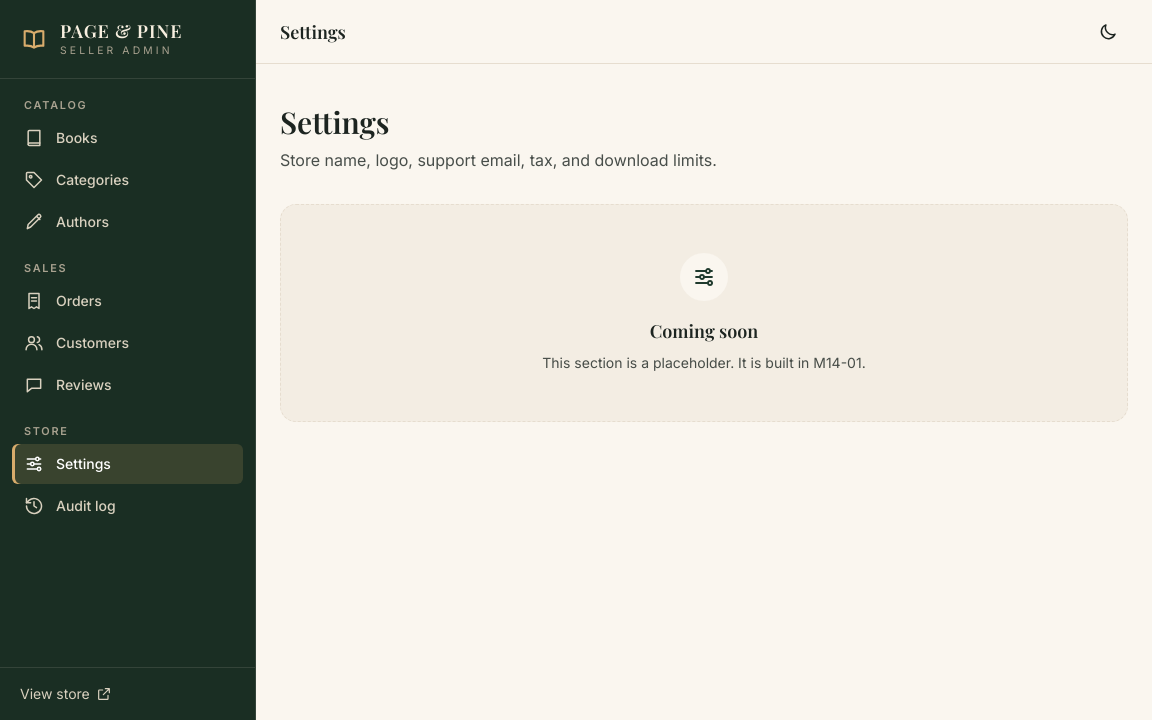
Test case: admin sidebar › clicking "Books" shows the matching page
Step 1. Click the link "Books" → [61, 138], box [24, 128, 98, 148]
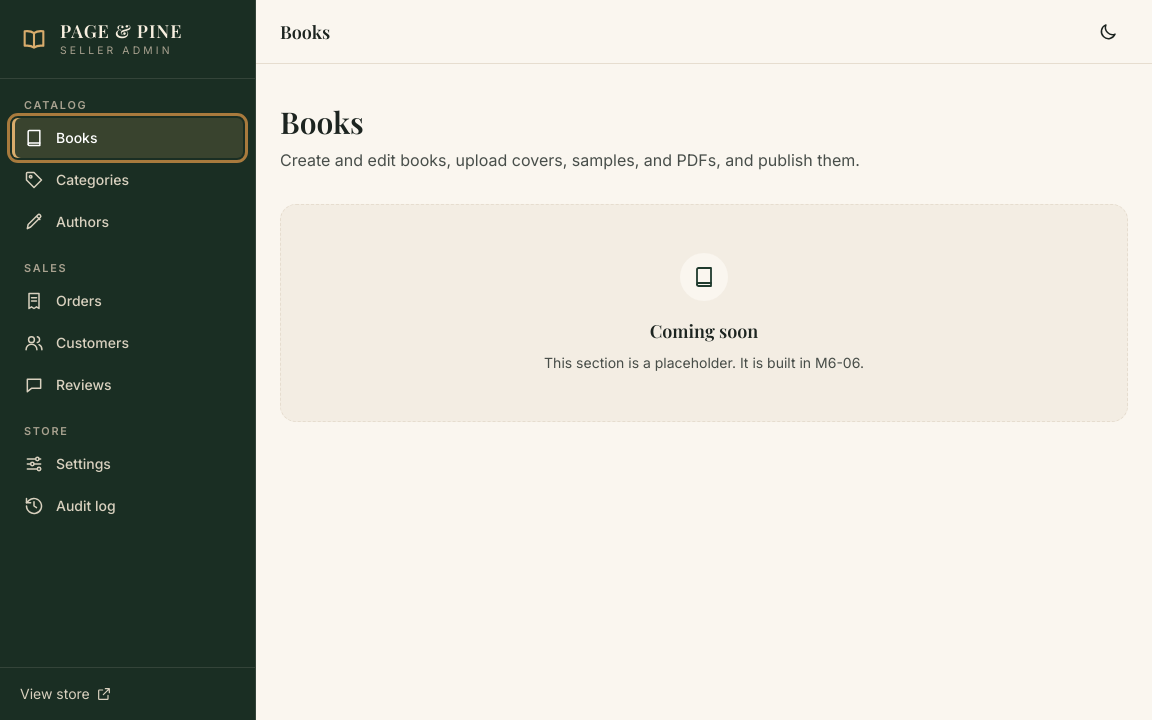
Check: the heading "Books" is shown, box [280, 102, 364, 142]
Check: the text "Books" is shown, box [280, 20, 330, 44]
Check: the text "Create and edit books, upload covers, samples, and PDFs, and publish them." is shown, box [280, 148, 952, 172]
